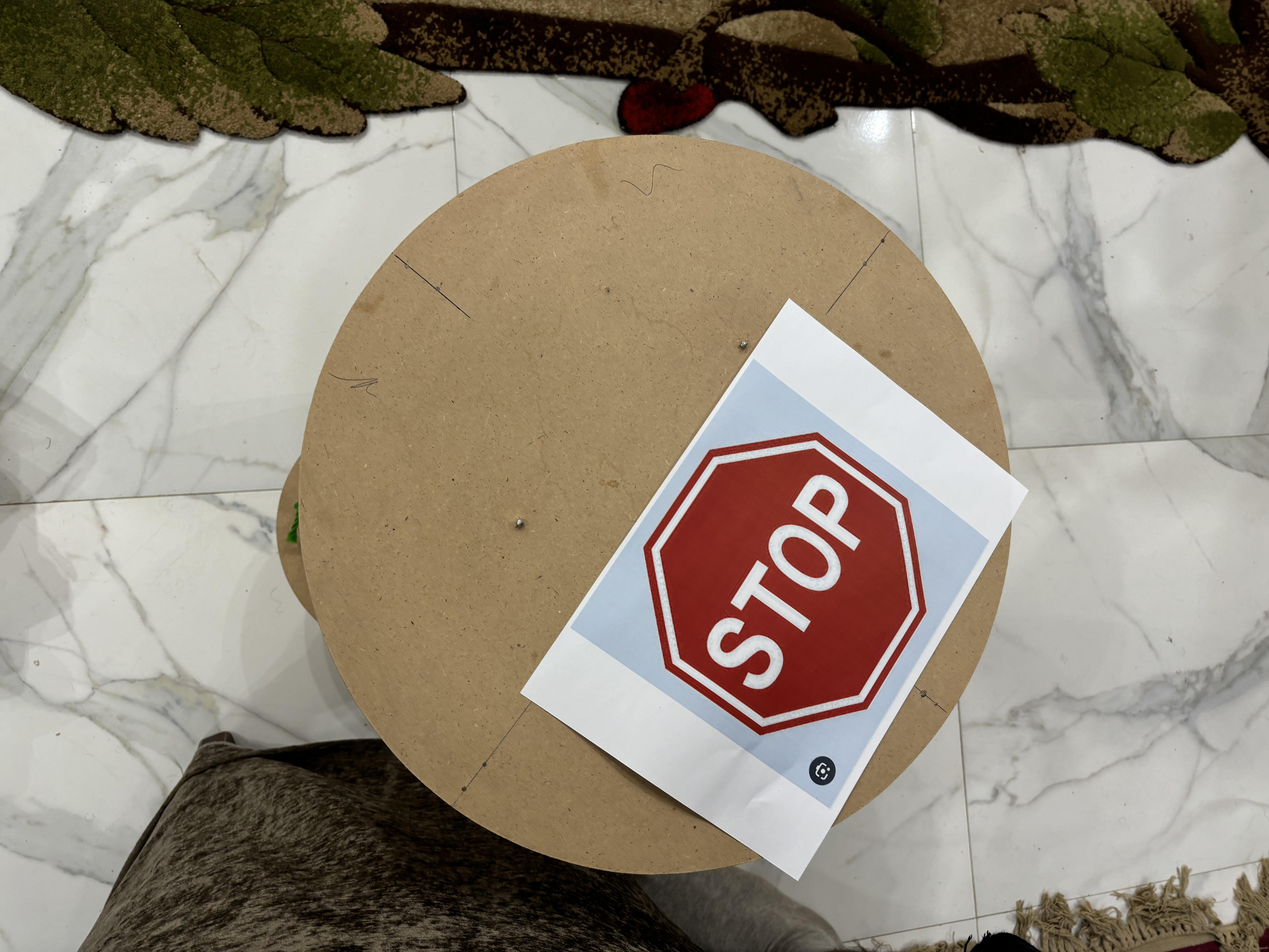Stop: (645, 431, 937, 732)
